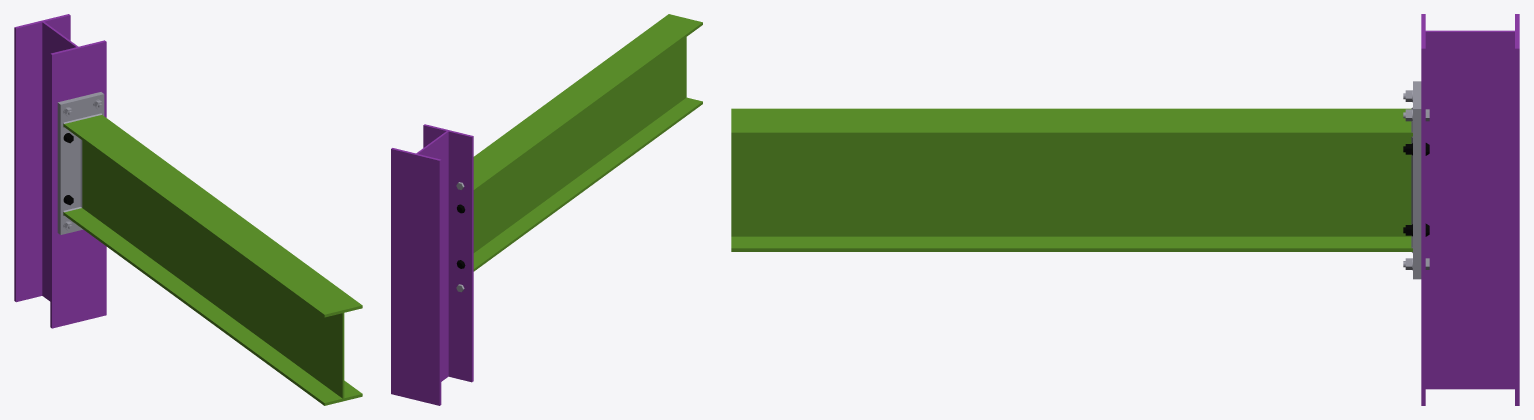
The model's file is End Plate Moment GLB.glb.
The picture shows the model from 3 angles, left to right: view 1: azimuth 30°, elevation 25°; view 2: azimuth 150°, elevation 25°; view 3: azimuth 270°, elevation 25°; orthographic projection. The views are drawn at different scales.
Parts seen in each view (by area): view 1: FamilyInstance Structural Framing BEAM <1240492 BEAM<, FamilyInstance Columns COLUMN <1240700 COLUMN<; view 2: FamilyInstance Structural Framing BEAM <1240492 BEAM<, FamilyInstance Columns COLUMN <1240700 COLUMN<; view 3: FamilyInstance Structural Framing BEAM <1240492 BEAM<, FamilyInstance Columns COLUMN <1240700 COLUMN<.
Part boxes in pixels (<box>): FamilyInstance Structural Framing BEAM <1240492 BEAM<: <box>57,92,362,405</box>; FamilyInstance Columns COLUMN <1240700 COLUMN<: <box>14,14,106,328</box>; FamilyInstance Structural Framing BEAM <1240492 BEAM<: <box>456,14,702,292</box>; FamilyInstance Columns COLUMN <1240700 COLUMN<: <box>391,124,473,405</box>; FamilyInstance Structural Framing BEAM <1240492 BEAM<: <box>731,81,1429,279</box>; FamilyInstance Columns COLUMN <1240700 COLUMN<: <box>1421,14,1519,405</box>.
Size of the model in its own units: 10 by 48 by 96.
